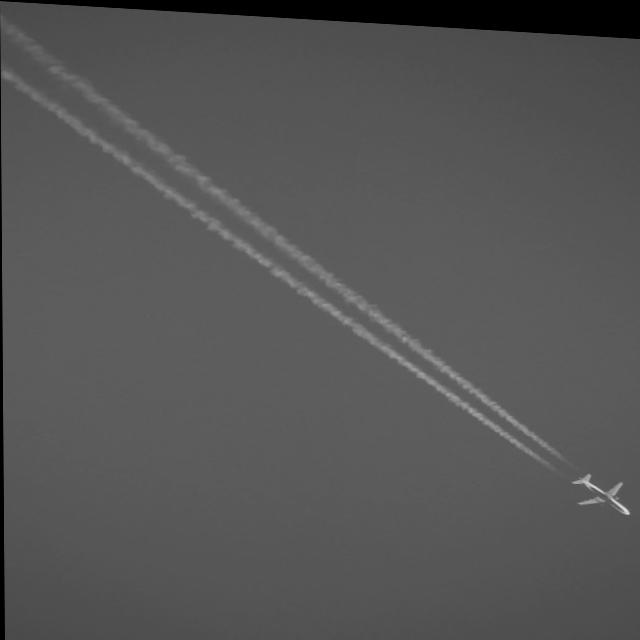aeroplane: (567, 461, 635, 506)
